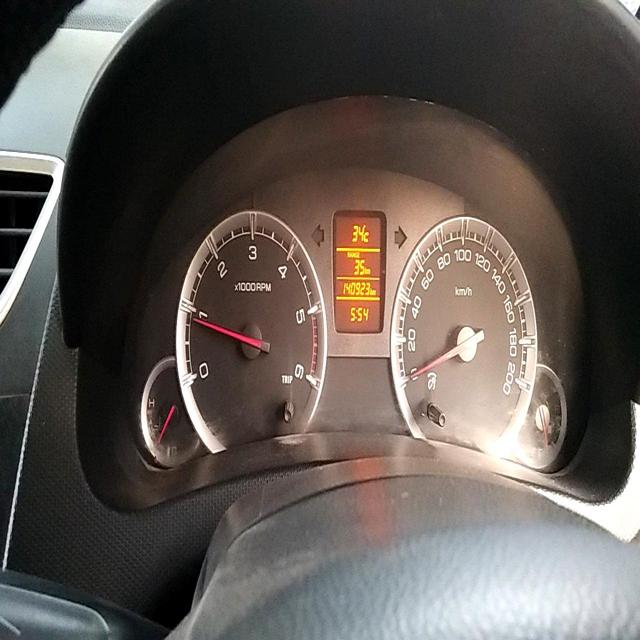odometer: (340, 277, 373, 298)
